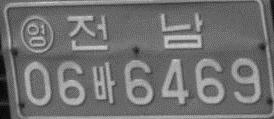0: (23, 60, 51, 107)
4: (160, 58, 188, 105)
6: (194, 57, 225, 104), (123, 60, 153, 106), (56, 60, 85, 106)
9: (229, 57, 261, 105)
바: (90, 61, 115, 104)
영: (19, 15, 54, 53)
전남_D: (66, 12, 204, 51)
